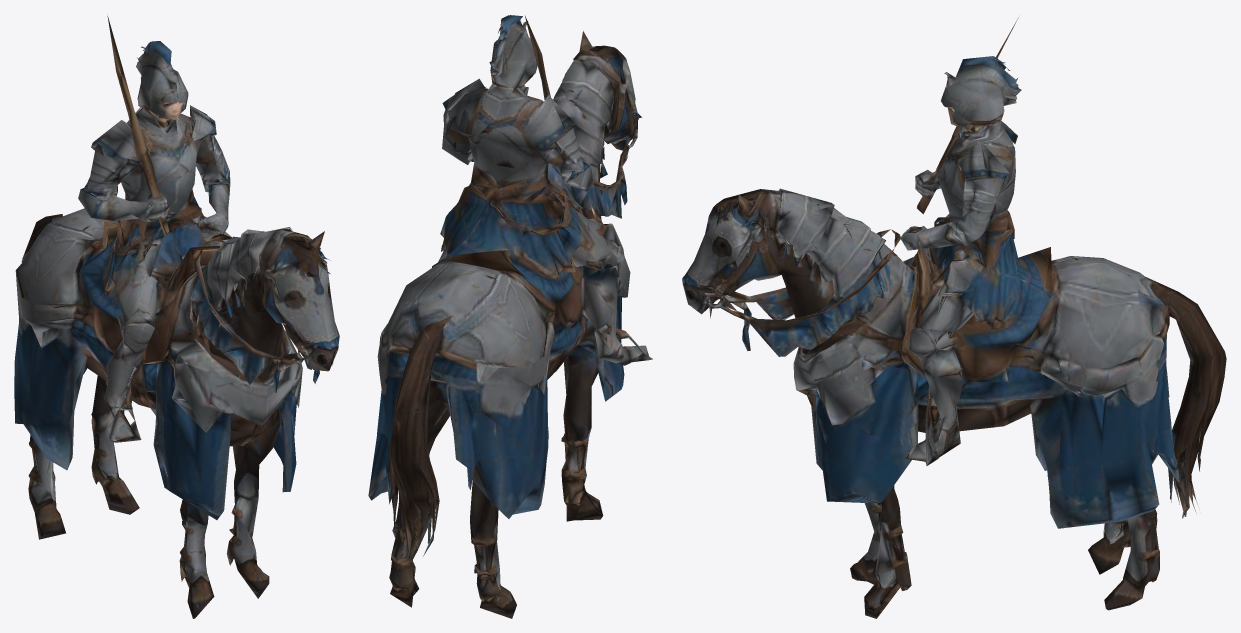
The model's file is caballero.glb.
3 views of the same model, side by side, from view 1: azimuth 30°, elevation 25°; view 2: azimuth 150°, elevation 25°; view 3: azimuth 270°, elevation 25° (orthographic). The views are drawn at different scales.
Size of the model in its own units: 0.6703 by 1.77 by 1.55.
Materials: 1 (1 with a texture image).
